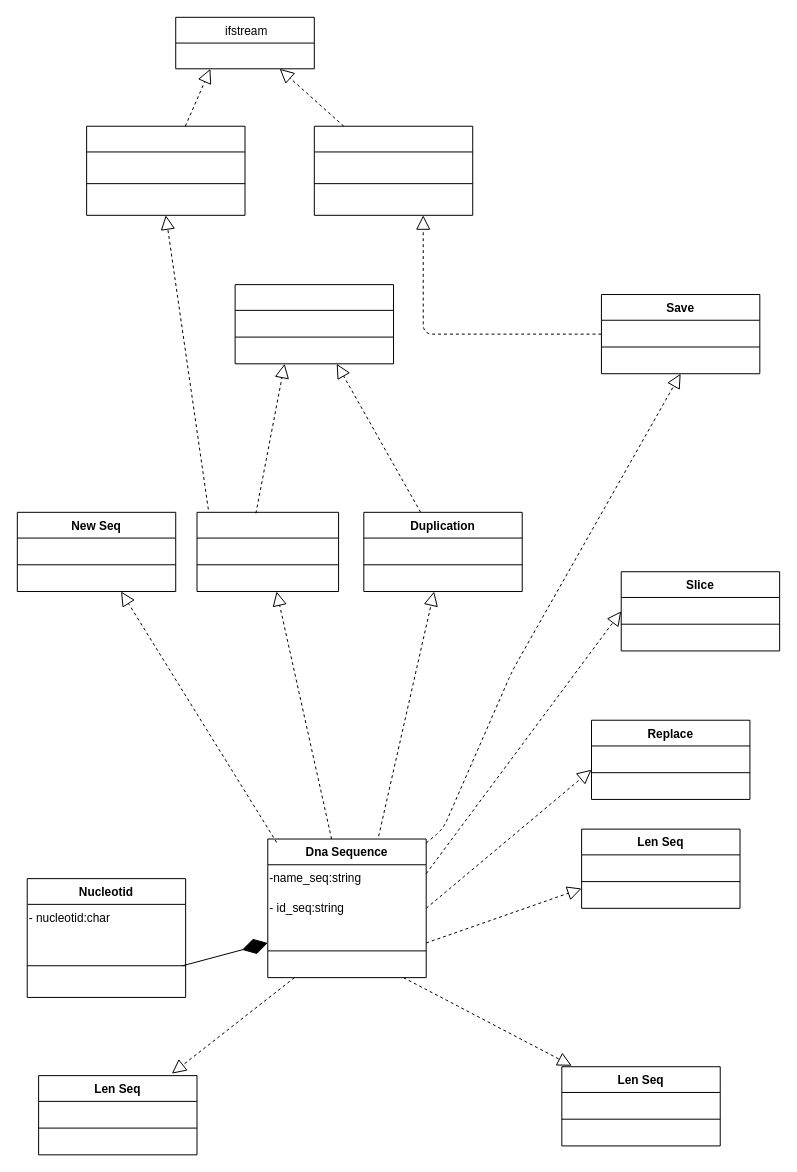
Some shapes in this 797 by 1172 pixel diagram are drawn without their labels. Each missing label, with the centre of its shape:
"Create Seq" goes at point (314, 324).
"Load" goes at point (267, 551).
"Reader" goes at point (165, 170).
"Writer" goes at point (393, 170).
